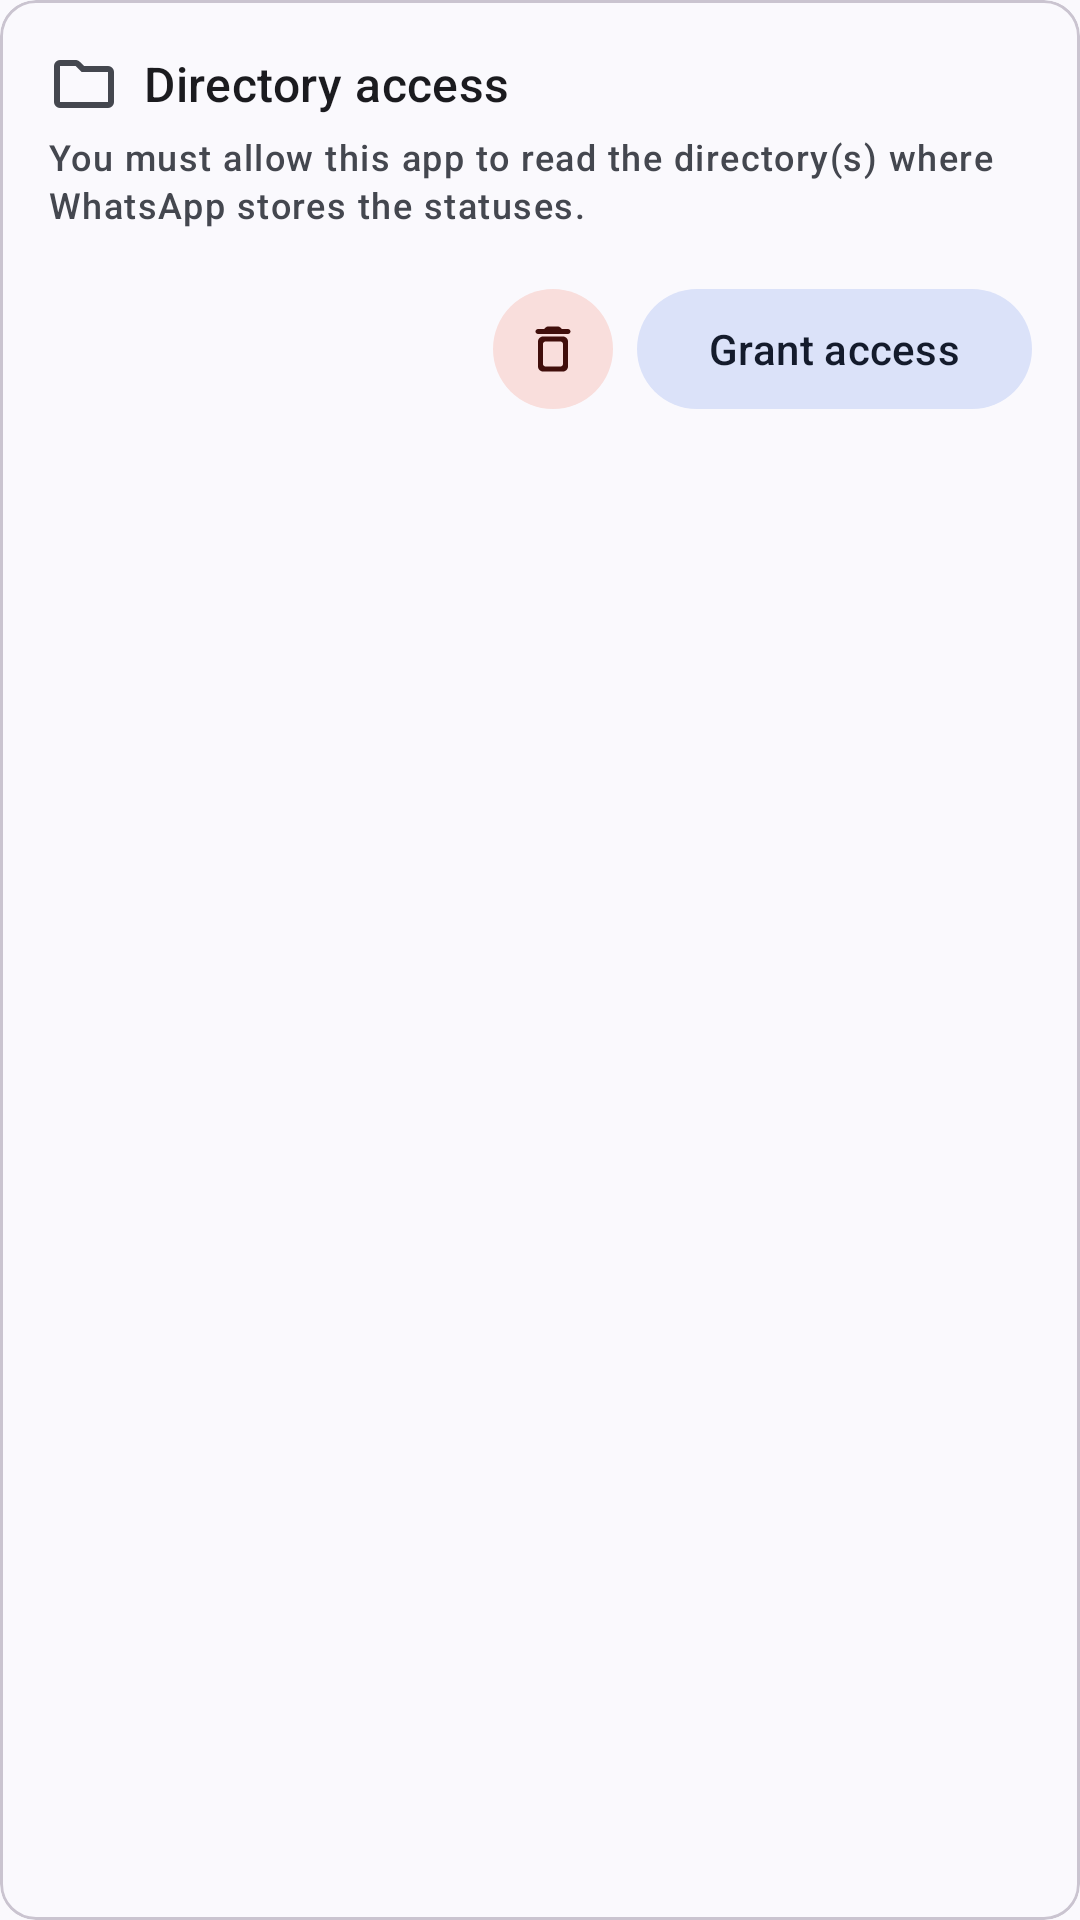

Icon bounding boxes for this 1080×1920 phone screenshot, format (x1, y1, x2, y2):
Revoke permissions: (493, 289, 613, 409)
